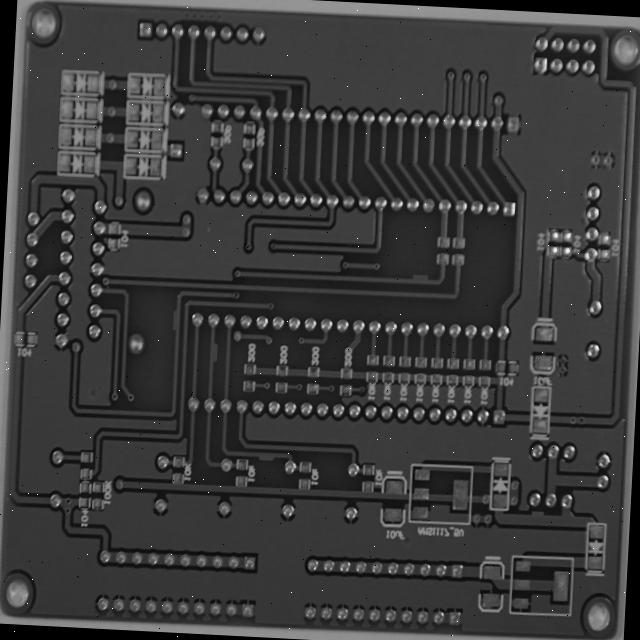spur: (391, 295, 418, 316), (176, 374, 193, 404), (227, 494, 253, 513), (137, 335, 150, 372), (517, 558, 540, 574)
